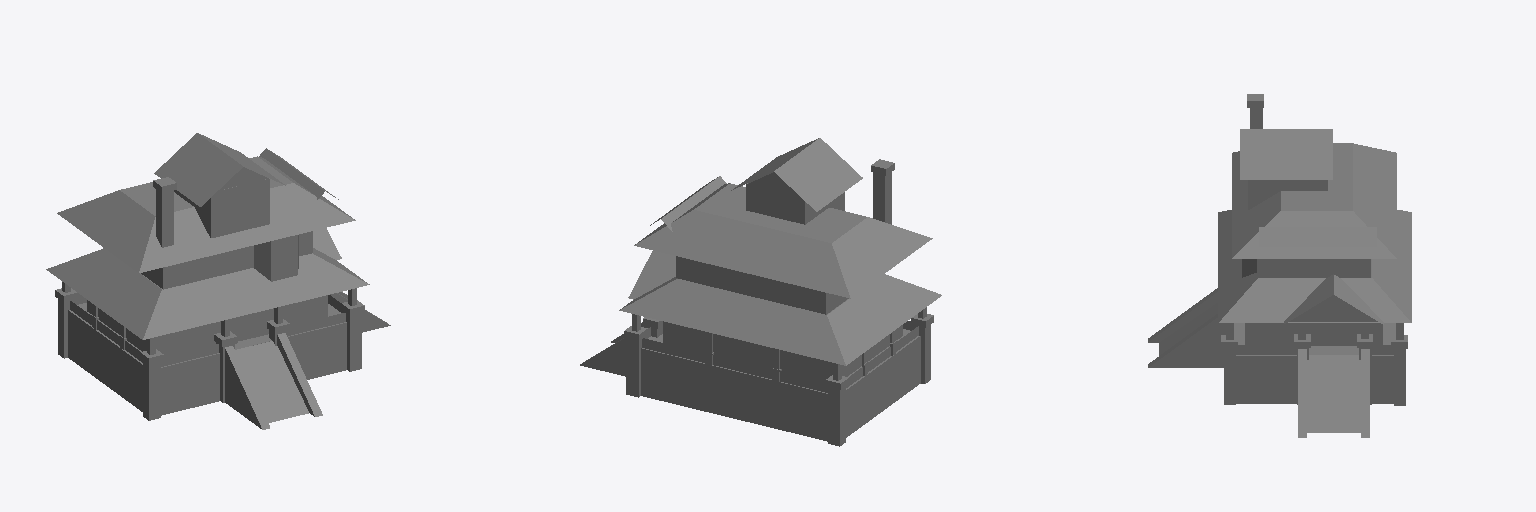
File: CasaParque.obj
3 renders of one model, left to right at view 1: azimuth 30°, elevation 25°; view 2: azimuth 150°, elevation 25°; view 3: azimuth 270°, elevation 25°, orthographic.
Visible parts, largest first — view 1: Cube_002, Cube_004, Cube, Cube_006, Cube_010, Cube_005, Cube_001, Cube_003, Cube_012, Cube_007, Cube_071, Cube_011 (+10 smaller); view 2: Cube_004, Cube_002, Cube, Cube_006, Cube_001, Cube_003, Cube_005, Cube_058, Cube_008, Cube_030, Cube_014, Cube_016 (+3 smaller); view 3: Cube_004, Cube_002, Cube, Cube_006, Cube_013, Cube_008, Cube_009, Cube_011, Cube_001, Cube_003, Cube_005, Cube_012 (+6 smaller).
Part boxes in pixels (left/top/right/bottom): Cube_002: left=46, top=248, right=369, bottom=339; Cube_004: left=57, top=156, right=355, bottom=272; Cube: left=68, top=303, right=346, bottom=415; Cube_006: left=154, top=133, right=285, bottom=206; Cube_010: left=235, top=341, right=308, bottom=422; Cube_005: left=174, top=178, right=269, bottom=237; Cube_001: left=70, top=295, right=327, bottom=362; Cube_003: left=141, top=231, right=312, bottom=289; Cube_012: left=225, top=346, right=269, bottom=429; Cube_007: left=254, top=235, right=298, bottom=281; Cube_071: left=292, top=334, right=340, bottom=379; Cube_011: left=277, top=333, right=322, bottom=416; Cube_004: left=634, top=183, right=932, bottom=298; Cube_002: left=619, top=274, right=941, bottom=365; Cube: left=641, top=329, right=920, bottom=441; Cube_006: left=731, top=138, right=862, bottom=211; Cube_001: left=663, top=321, right=918, bottom=387; Cube_003: left=676, top=256, right=848, bottom=314; Cube_005: left=746, top=183, right=844, bottom=224; Cube_058: left=642, top=338, right=827, bottom=392; Cube_008: left=628, top=251, right=675, bottom=299; Cube_030: left=828, top=387, right=845, bottom=446; Cube_014: left=580, top=326, right=644, bottom=376; Cube_016: left=873, top=172, right=891, bottom=224; Cube_004: left=1232, top=143, right=1396, bottom=258; Cube_002: left=1218, top=210, right=1411, bottom=322; Cube: left=1234, top=323, right=1395, bottom=403; Cube_006: left=1240, top=129, right=1332, bottom=179; Cube_013: left=1307, top=355, right=1360, bottom=432; Cube_008: left=1284, top=274, right=1383, bottom=324; Cube_009: left=1259, top=227, right=1376, bottom=246; Cube_011: left=1148, top=314, right=1223, bottom=367; Cube_001: left=1245, top=323, right=1382, bottom=345; Cube_003: left=1257, top=259, right=1370, bottom=277; Cube_005: left=1248, top=180, right=1327, bottom=209; Cube_012: left=1148, top=288, right=1217, bottom=342.
Bounding box in the file's own units: 18.95 × 14.04 × 15.02.